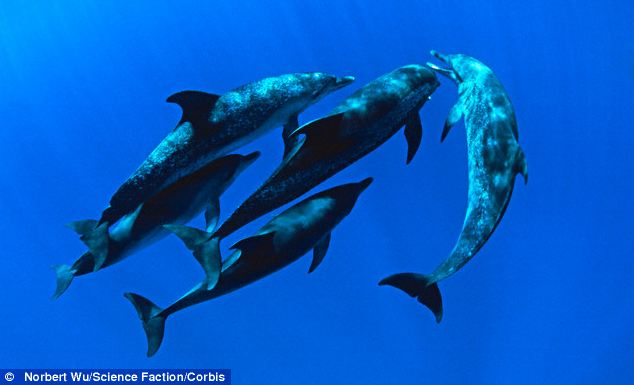dolphin: (183, 57, 439, 261), (67, 64, 348, 240), (404, 47, 521, 317)
